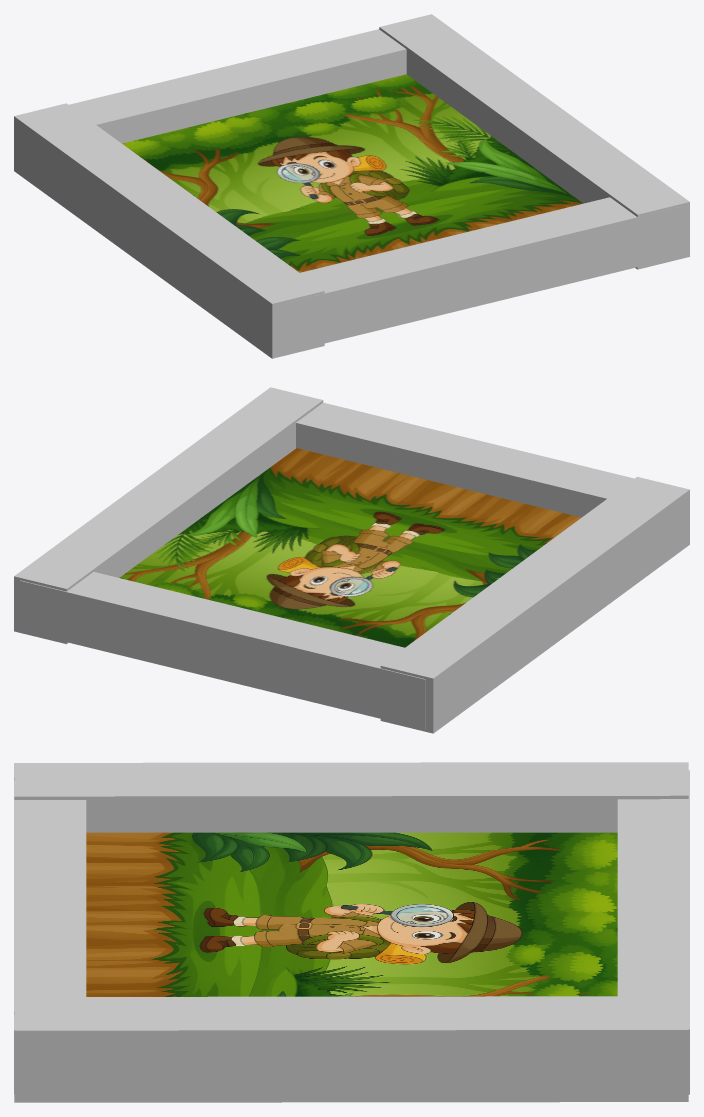
File: Explorador.fbx
The picture shows the model from 3 angles, top to bottom: view 1: azimuth 30°, elevation 25°; view 2: azimuth 150°, elevation 25°; view 3: azimuth 270°, elevation 25°; orthographic projection. The views are drawn at different scales.
Parts seen in each view (by area): view 1: Cube.003, Plane; view 2: Cube.003, Plane; view 3: Cube.003, Plane.
Part boxes in pixels (box(x1,y1,x2,y2)): Cube.003: box(14, 14, 689, 358); Plane: box(122, 74, 582, 272); Cube.003: box(14, 387, 689, 733); Plane: box(119, 448, 581, 647); Cube.003: box(14, 762, 689, 1102); Plane: box(86, 832, 617, 996).
Bounding box in the file's own units: 8780 × 1100 × 9342.
1 material, 1 textured.
